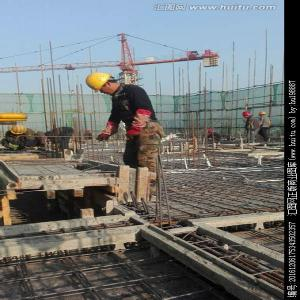red: (242, 113, 252, 120)
yellow: (86, 72, 120, 98), (11, 126, 27, 138), (259, 112, 268, 118)
